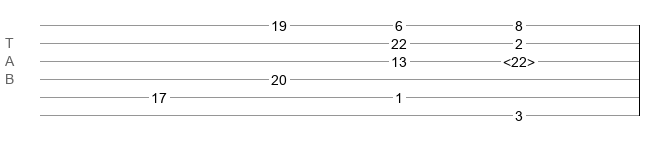1: (395, 90, 403, 100)
13: (391, 54, 407, 64)
17: (151, 90, 167, 100)
19: (271, 18, 287, 28)
2: (515, 36, 523, 46)
20: (271, 72, 287, 82)
22: (391, 36, 407, 46)
3: (515, 108, 523, 118)
6: (395, 18, 403, 28)
8: (515, 18, 523, 28)
harmonic: (503, 54, 535, 64)
